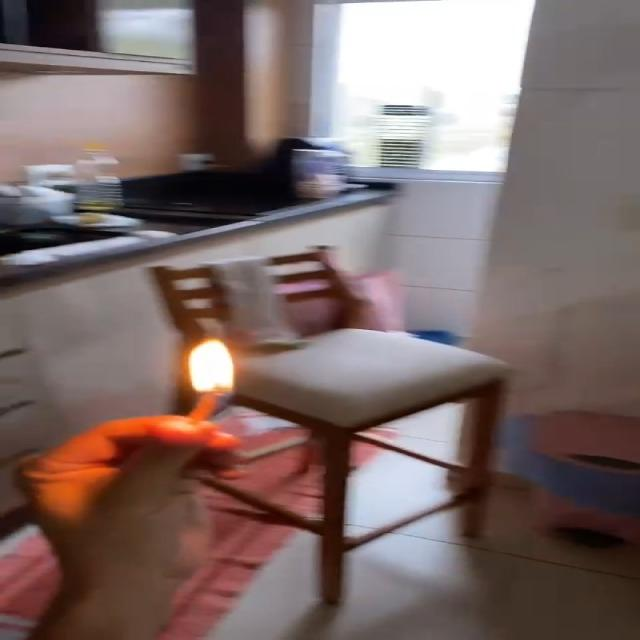fogo-ypXI: (185, 336, 237, 397)
